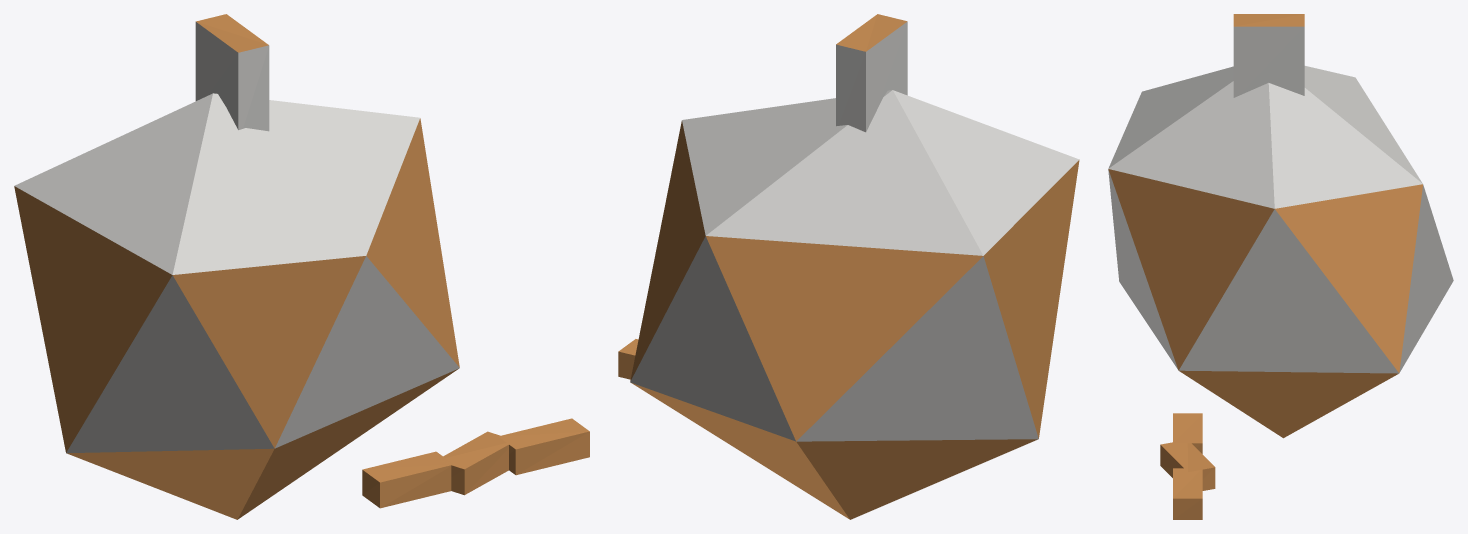
File: buoy-00.glb
3 renders of one model, left to right at view 1: azimuth 30°, elevation 25°; view 2: azimuth 150°, elevation 25°; view 3: azimuth 270°, elevation 25°, orthographic. The views are drawn at different scales.
Visible parts, largest first — view 1: buoy_00; view 2: buoy_00; view 3: buoy_00.
Boxes of the visible parts, x1,y1,x2,y2 form: buoy_00: (14,14,589,519); buoy_00: (618,14,1079,519); buoy_00: (1108,14,1453,519).
Bounding box in the file's own units: 0.7593 × 0.7685 × 0.5832.
